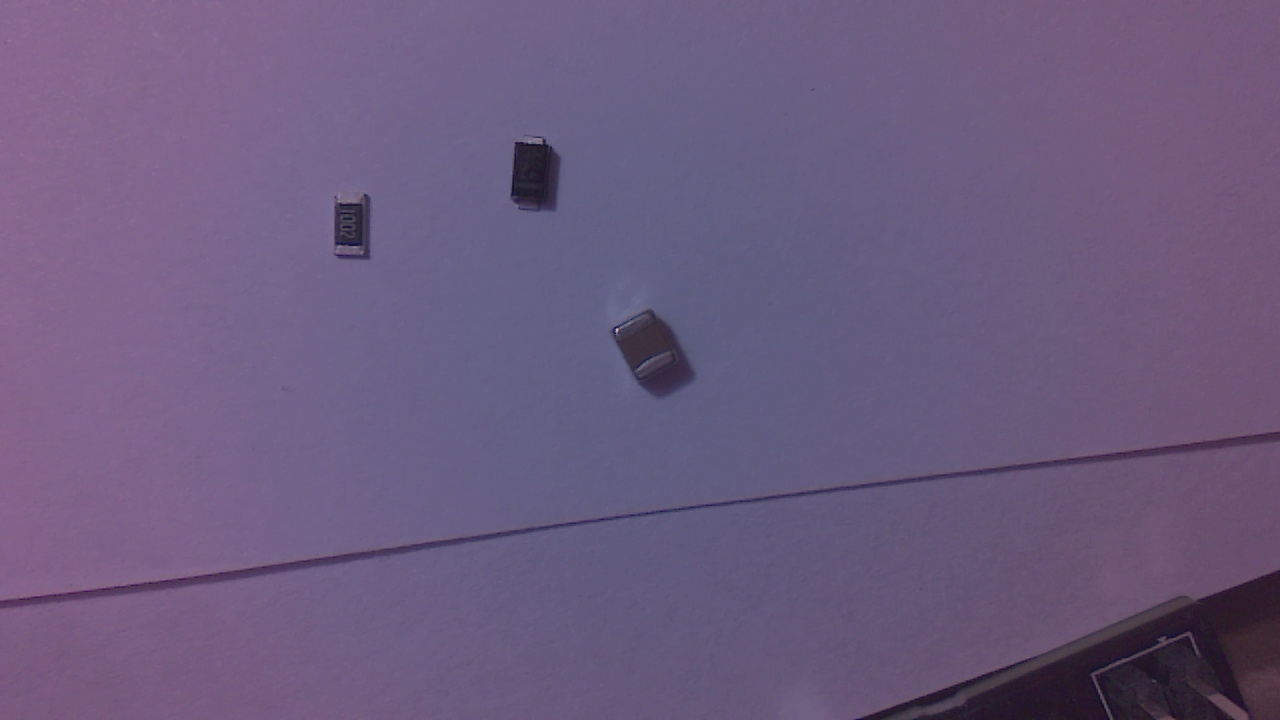Condensator: (616, 312, 687, 391)
Diode: (515, 141, 559, 220)
Resistor: (337, 195, 374, 262)
